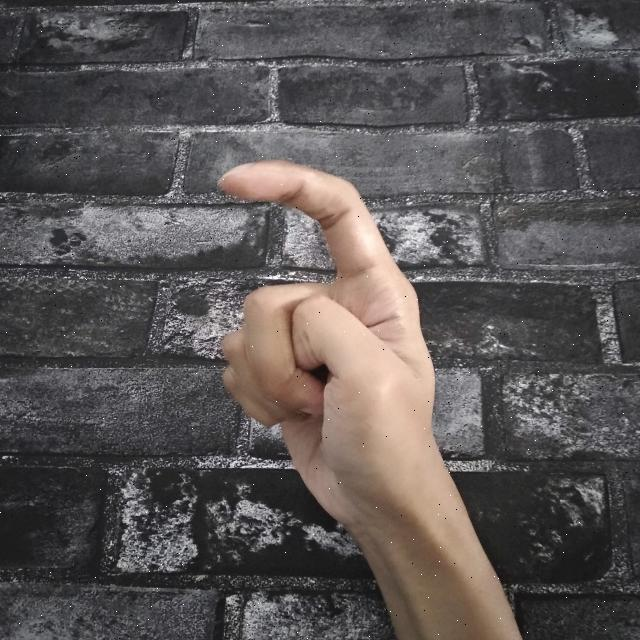X: (209, 155, 526, 640)
